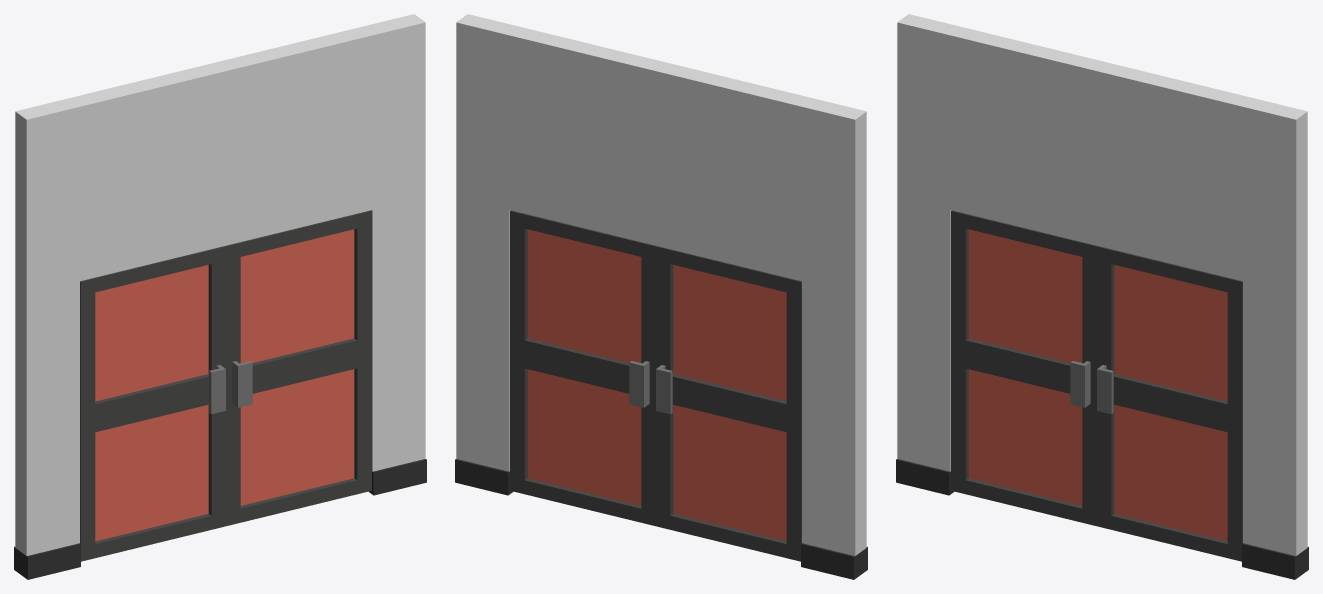
File: Dojo Doorway.fbx
3 renders of one model, left to right at view 1: azimuth 30°, elevation 25°; view 2: azimuth 150°, elevation 25°; view 3: azimuth 330°, elevation 25°, orthographic.
Visible parts, largest first — view 1: Dojo Doorway, Door 1, Door 2; view 2: Dojo Doorway, Door 1, Door 2; view 3: Dojo Doorway, Door 2, Door 1.
Part boxes in pixels (x1,y1,x2,y2): Dojo Doorway: [14, 14, 426, 579]; Door 1: [80, 246, 226, 561]; Door 2: [226, 210, 371, 525]; Dojo Doorway: [455, 14, 867, 579]; Door 1: [655, 246, 801, 561]; Door 2: [510, 210, 655, 525]; Dojo Doorway: [896, 14, 1308, 579]; Door 2: [1096, 246, 1242, 561]; Door 1: [951, 210, 1096, 525].
Size of the model in its own units: 2000 by 2200 by 201.
